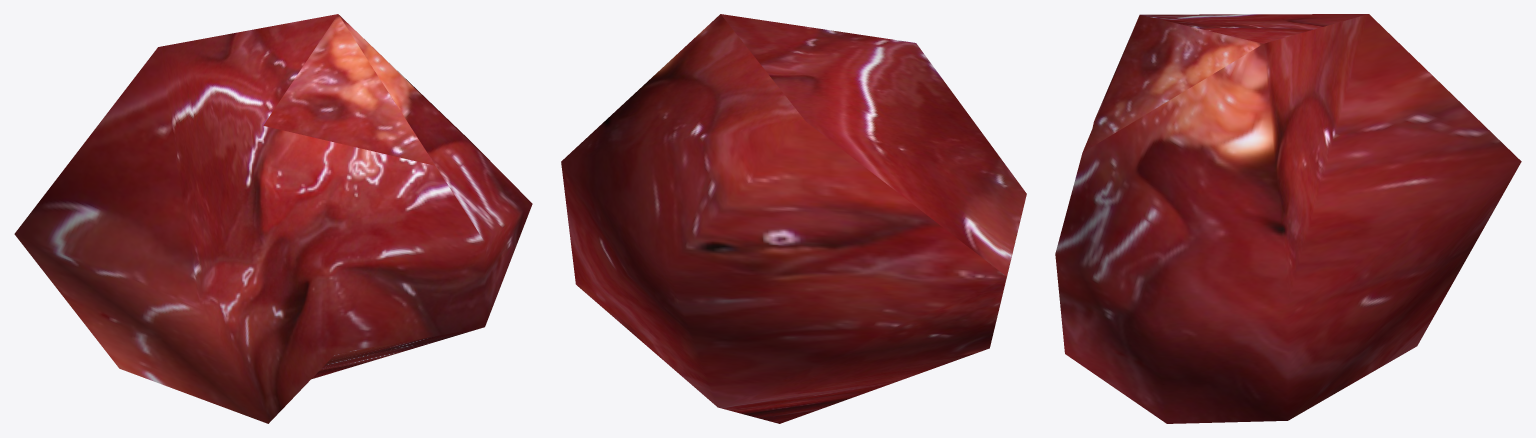
Rendered from gib_04.fbx.
3 views of the same model, side by side, from view 1: azimuth 30°, elevation 25°; view 2: azimuth 150°, elevation 25°; view 3: azimuth 270°, elevation 25° (orthographic). The views are drawn at different scales.
Visible parts, largest first — view 1: meaty_gib2; view 2: meaty_gib2; view 3: meaty_gib2.
Boxes of the visible parts, <box> form: meaty_gib2: <box>14,14,532,423</box>; meaty_gib2: <box>561,14,1026,423</box>; meaty_gib2: <box>1055,14,1521,423</box>.
Bounding box in the file's own units: 0.2635 × 0.211 × 0.2211.
